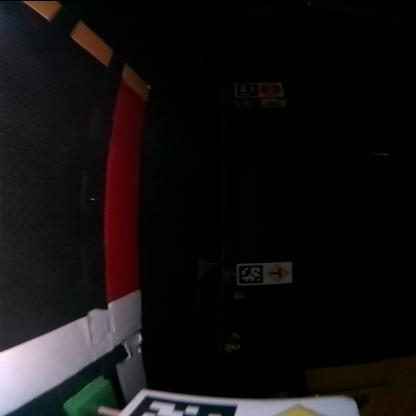Duckie: (224, 342, 240, 350), (237, 292, 245, 298)
Intersection sign: (266, 262, 290, 282)
QR code: (122, 394, 239, 416), (238, 262, 266, 284), (236, 82, 260, 96)
Stop sign: (264, 81, 284, 93)
